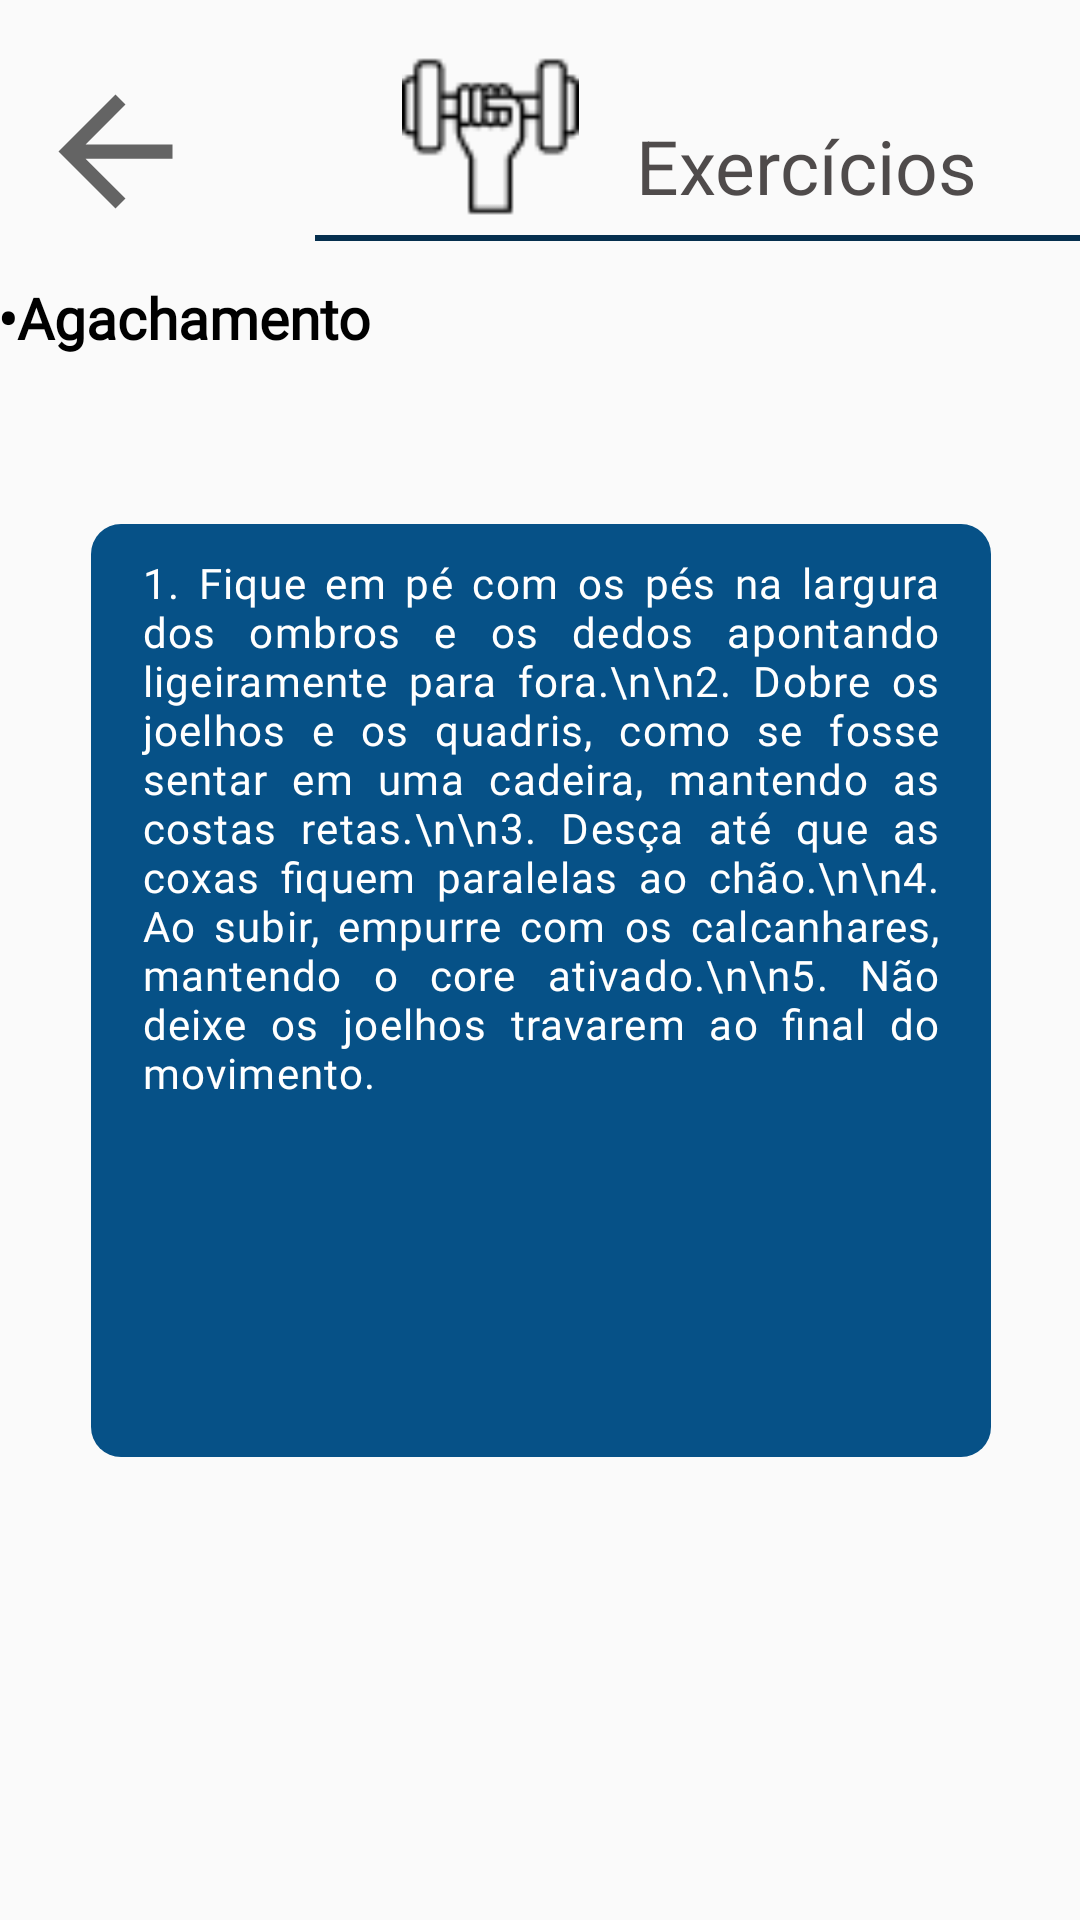

Point at icon controls on the screen. Image size 1080 x 1920, points as point (x, y).
exercicios: point (490, 136)
